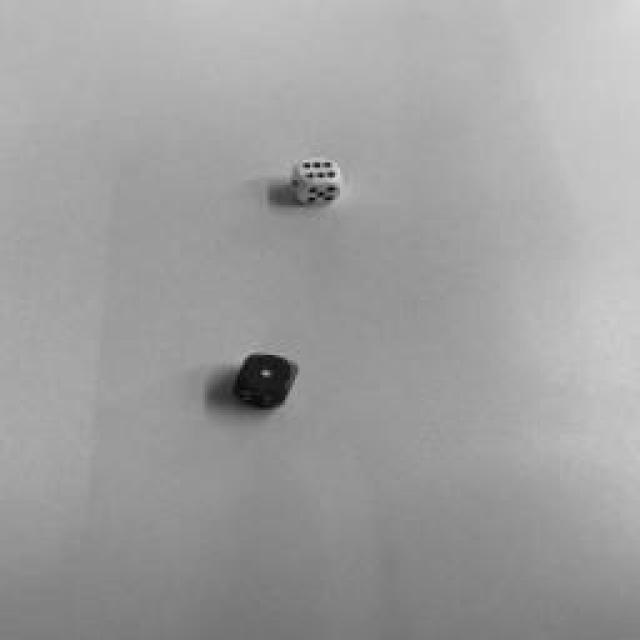dice_1: (241, 355, 294, 393)
dice_6: (299, 158, 341, 184)
